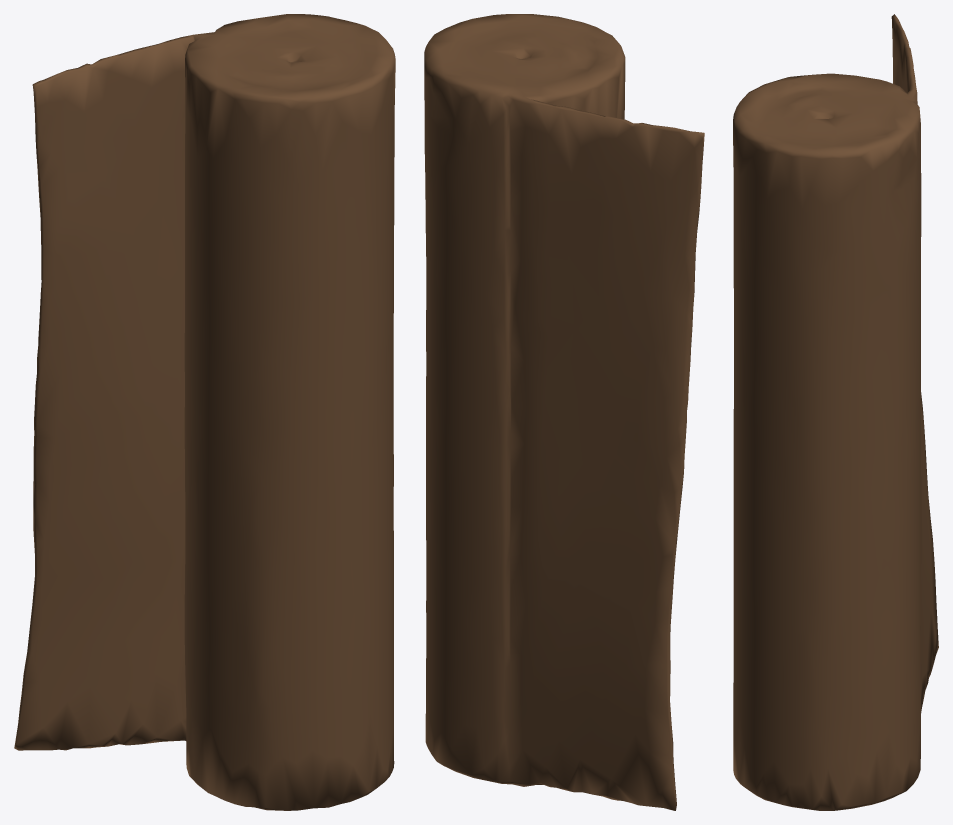
File: react-carton-BKffitzV.glb
The picture shows the model from 3 angles, left to right: view 1: azimuth 30°, elevation 25°; view 2: azimuth 150°, elevation 25°; view 3: azimuth 270°, elevation 25°; orthographic projection. The views are drawn at different scales.
Parts seen in each view (by area): view 1: Meshy_Mesh_0.001; view 2: Meshy_Mesh_0.001; view 3: Meshy_Mesh_0.001.
Boxes of the visible parts, box(x1,y1,x2,y2) form: Meshy_Mesh_0.001: box(14, 14, 395, 810); Meshy_Mesh_0.001: box(424, 14, 704, 810); Meshy_Mesh_0.001: box(733, 14, 938, 810).
Bounding box in the file's own units: 0.3126 × 0.6773 × 0.192.
